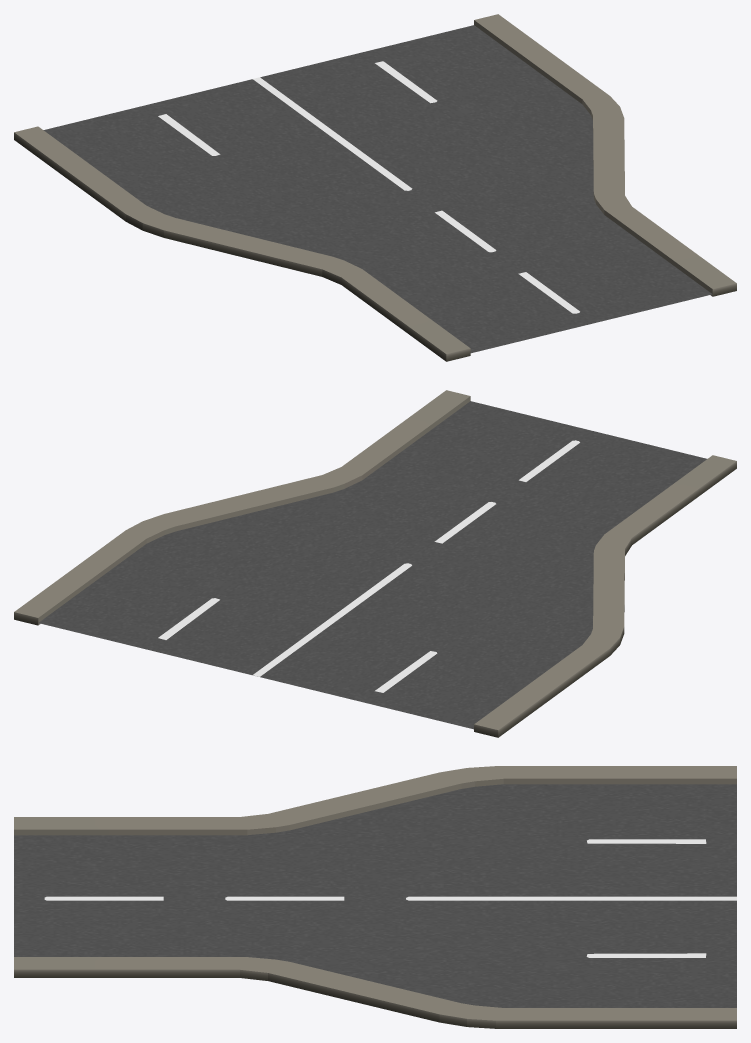
3 renders of one model, top to bottom at view 1: azimuth 30°, elevation 25°; view 2: azimuth 150°, elevation 25°; view 3: azimuth 270°, elevation 25°, orthographic. The views are drawn at different scales.
Parts seen in each view (by area): view 1: Road_1N; view 2: Road_1N; view 3: Road_1N.
Boxes of the visible parts, x1,y1,x2,y2 form: Road_1N: [14, 14, 736, 361]; Road_1N: [14, 390, 736, 737]; Road_1N: [14, 766, 736, 1028].
Size of the model in its own units: 24915 by 374 by 29898.
